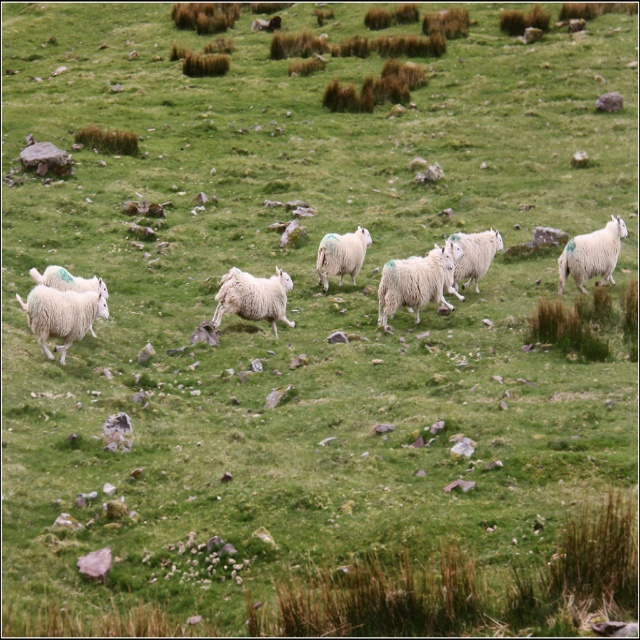Sheep: (16, 215, 631, 368)
